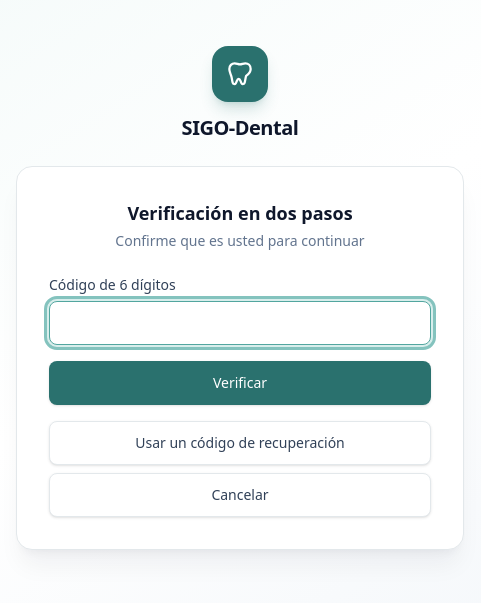
it: MfaPage › muestra el error cuando el código es incorrecto
The width and height of the screenshot is (481, 603).
Type "000000" into the field labelled "Código de 6 dígitos" at (240, 323), box left=49, top=301, right=431, bottom=345
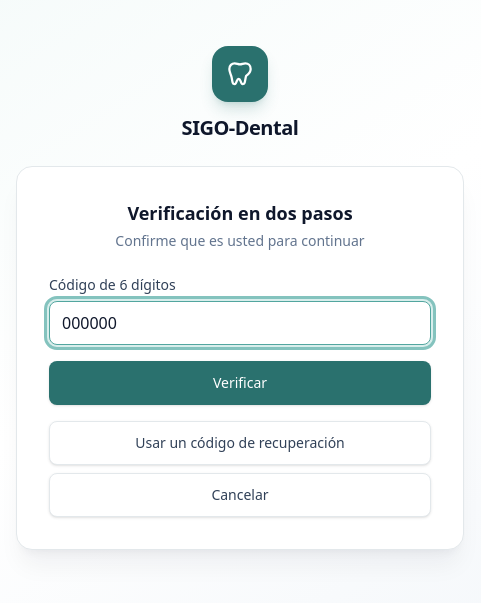
Click the button "Verificar" at (240, 383), box left=49, top=361, right=431, bottom=405
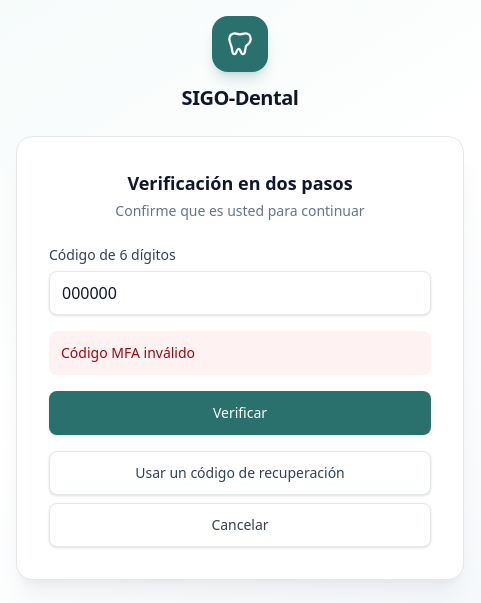
Expected: the message reads "Código MFA inválido", left=61, top=343, right=195, bottom=362
